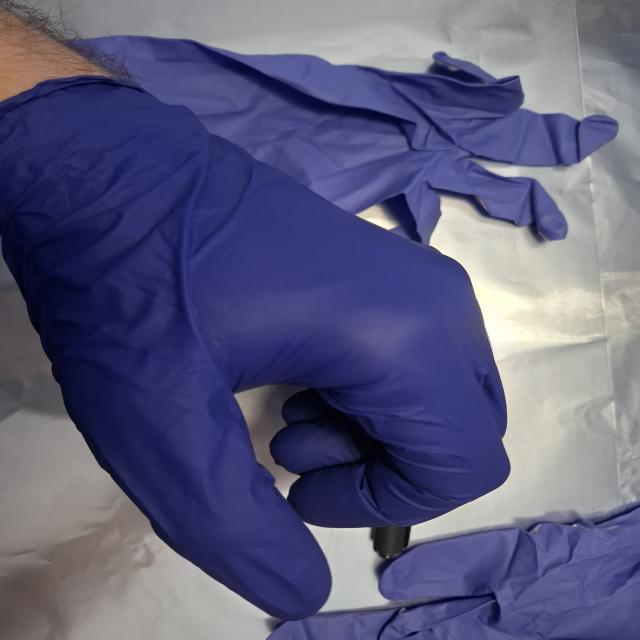glove_on: (0, 74, 517, 625)
